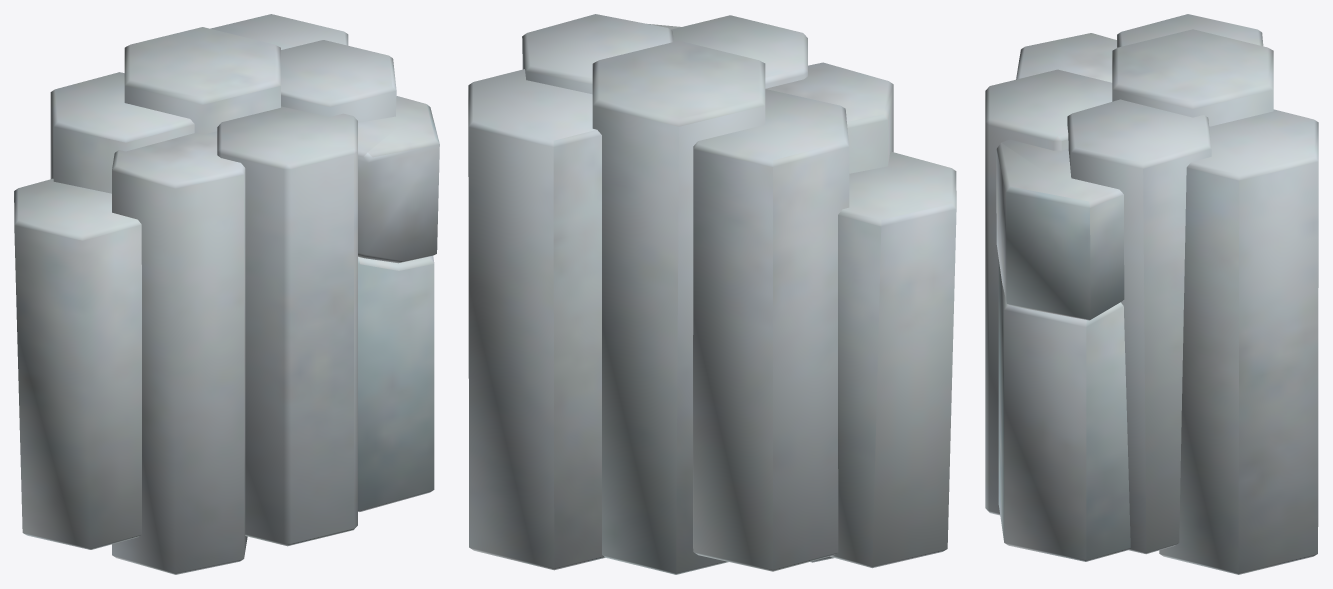
The model's file is P_RockHexic_Rocks07.obj.
The picture shows the model from 3 angles, left to right: view 1: azimuth 30°, elevation 25°; view 2: azimuth 150°, elevation 25°; view 3: azimuth 270°, elevation 25°; orthographic projection. The views are drawn at different scales.
Bounding box in the file's own units: 12.71 × 13.03 × 8.96.
